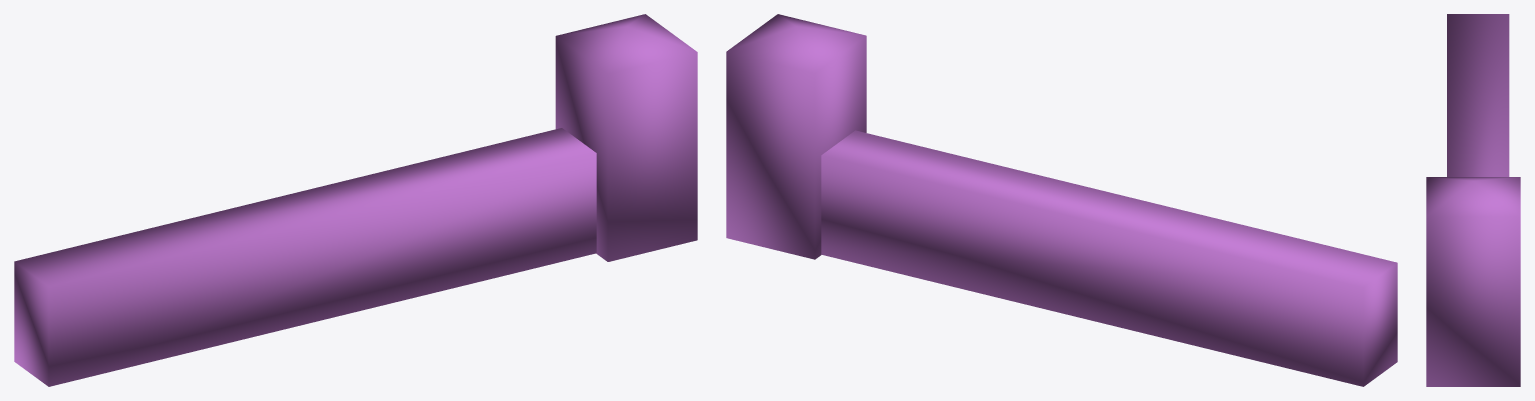
The model's file is Struct_Fence1_Mid_A_COL.fbx.
3 renders of one model, left to right at view 1: azimuth 30°, elevation 25°; view 2: azimuth 150°, elevation 25°; view 3: azimuth 270°, elevation 25°, orthographic. The views are drawn at different scales.
Parts seen in each view (by area): view 1: Struct_Fence1_Mid_A_COL; view 2: Struct_Fence1_Mid_A_COL; view 3: Struct_Fence1_Mid_A_COL.
Boxes of the visible parts, x1,y1,x2,y2 form: Struct_Fence1_Mid_A_COL: [14, 14, 697, 386]; Struct_Fence1_Mid_A_COL: [726, 14, 1397, 386]; Struct_Fence1_Mid_A_COL: [1426, 14, 1520, 386].
Size of the model in its own units: 6.39 by 1.97 by 0.9063.
